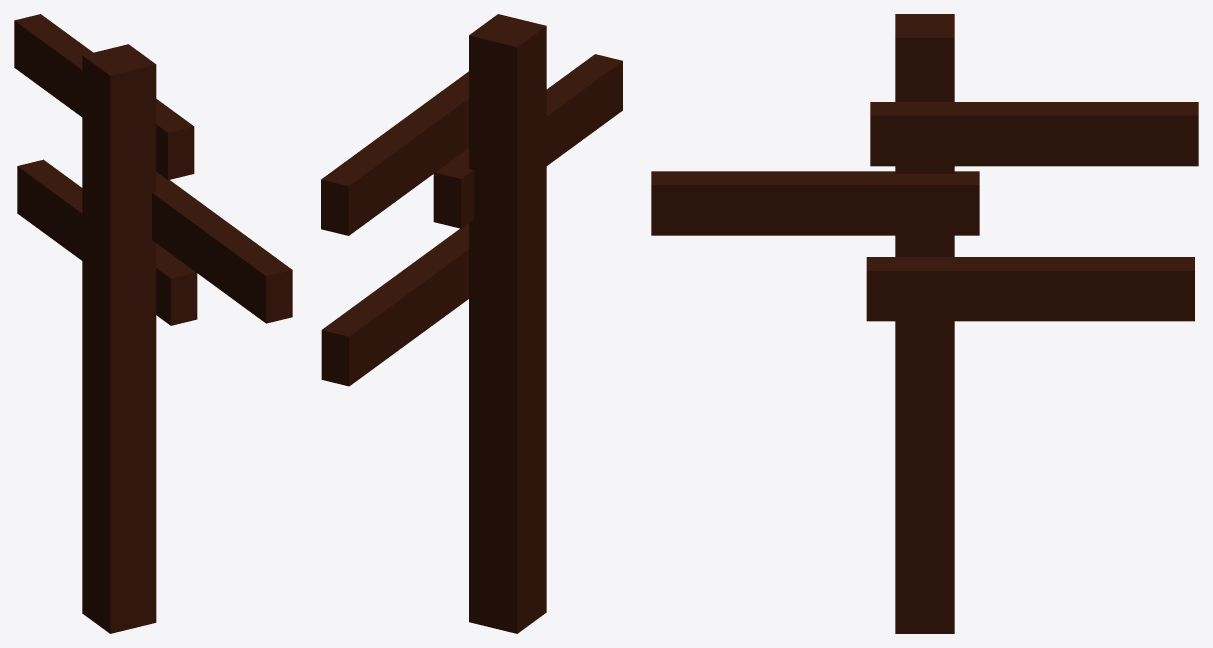
The model's file is sign.obj.
3 views of the same model, side by side, from view 1: azimuth 30°, elevation 25°; view 2: azimuth 150°, elevation 25°; view 3: azimuth 270°, elevation 25° (orthographic). The views are drawn at different scales.
Parts seen in each view (by area): view 1: sign; view 2: sign; view 3: sign.
Boxes of the visible parts, box(x1,y1,x2,y2) form: sign: box(14, 14, 292, 633); sign: box(321, 14, 622, 633); sign: box(651, 14, 1198, 633).
Bounding box in the file's own units: 0.3319 × 2.4 × 2.
